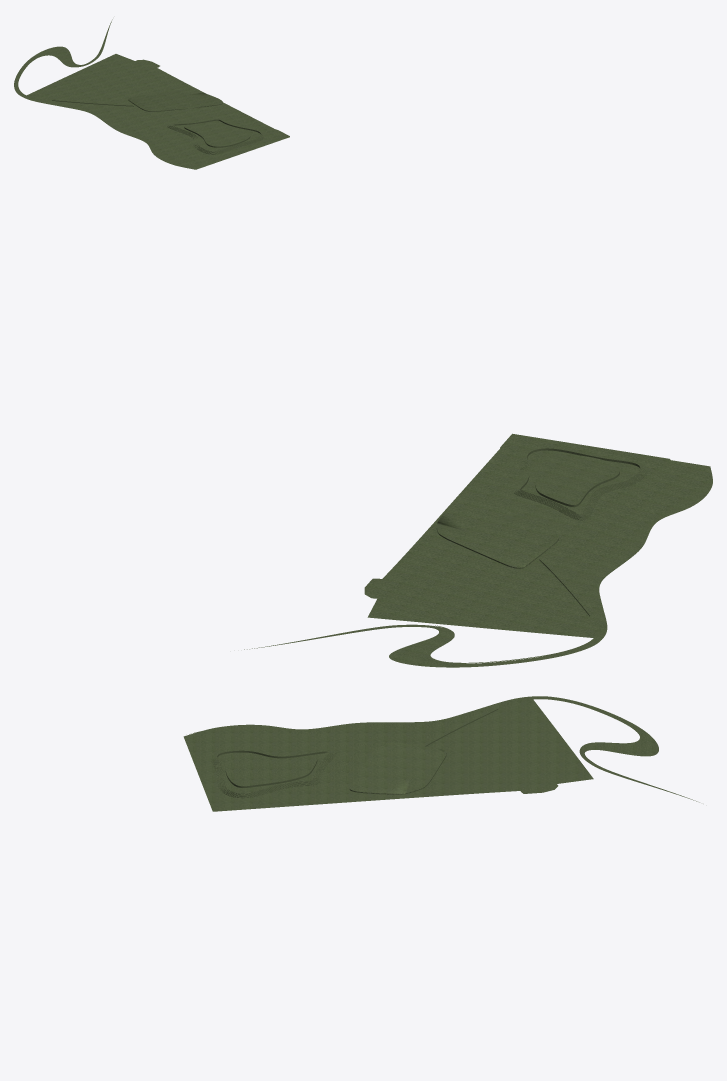
File: Grass Dark.FBX
The picture shows the model from 3 angles, top to bottom: view 1: azimuth 30°, elevation 25°; view 2: azimuth 150°, elevation 25°; view 3: azimuth 270°, elevation 25°; orthographic projection. The views are drawn at different scales.
Parts seen in each view (by area): view 1: Grass Dark; view 2: Grass Dark; view 3: Grass Dark.
Boxes of the visible parts, x1,y1,x2,y2 form: Grass Dark: (14,19,289,169); Grass Dark: (244,433,712,667); Grass Dark: (183,696,699,811).
Bounding box in the file's own units: 811 × 7.01 × 644.
Materials: 1 (1 with a texture image).
